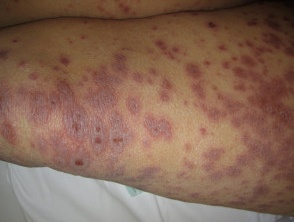SJS-TEN: (0, 7, 294, 218)
